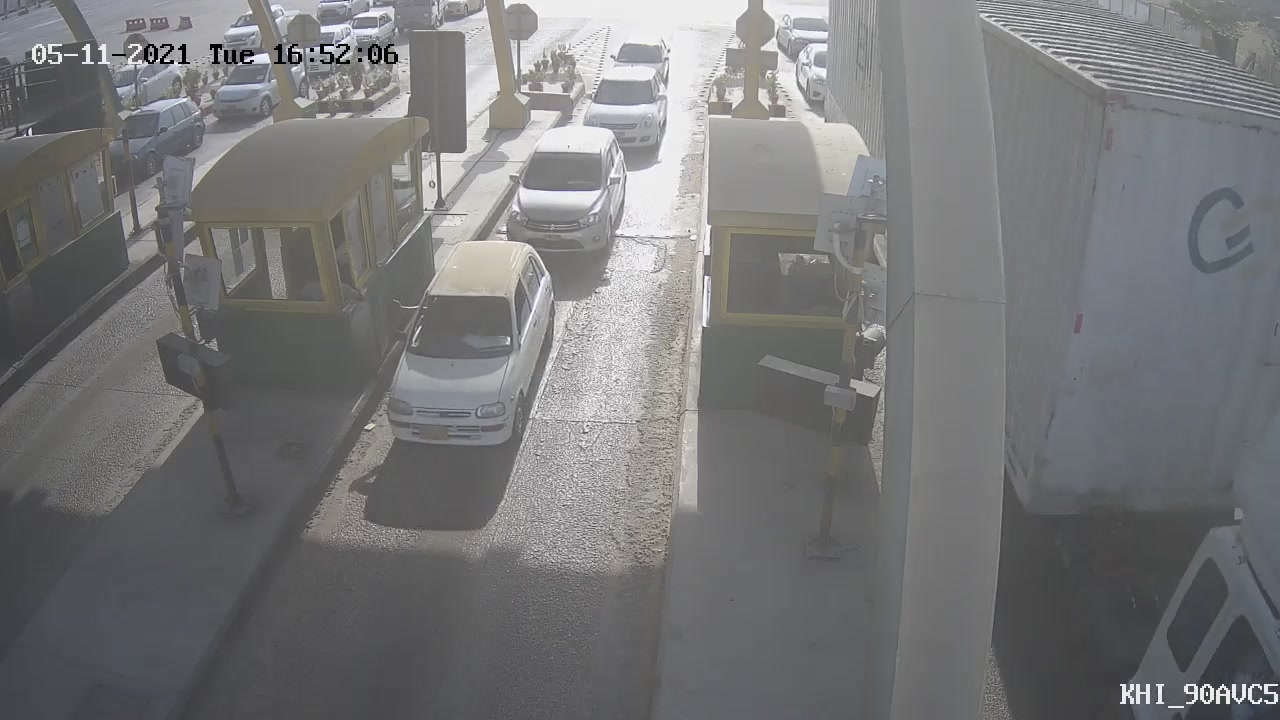F1: (368, 221, 570, 466), (485, 109, 646, 278), (569, 57, 679, 168)
